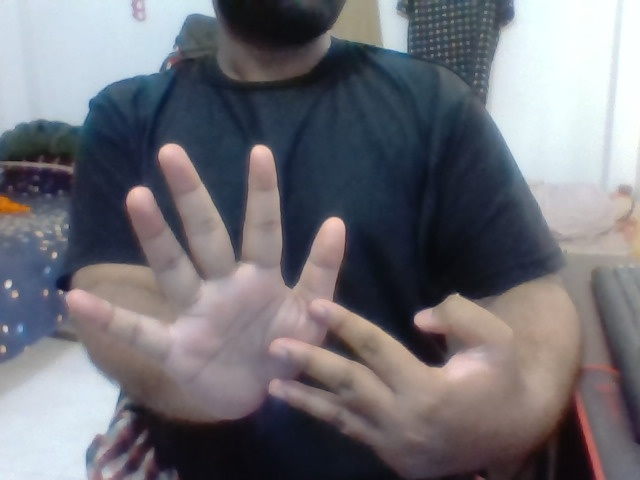M: (67, 130, 513, 480)
